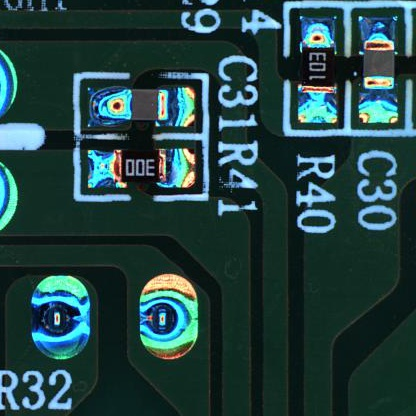spot: (130, 263, 209, 374), (26, 265, 102, 368)
